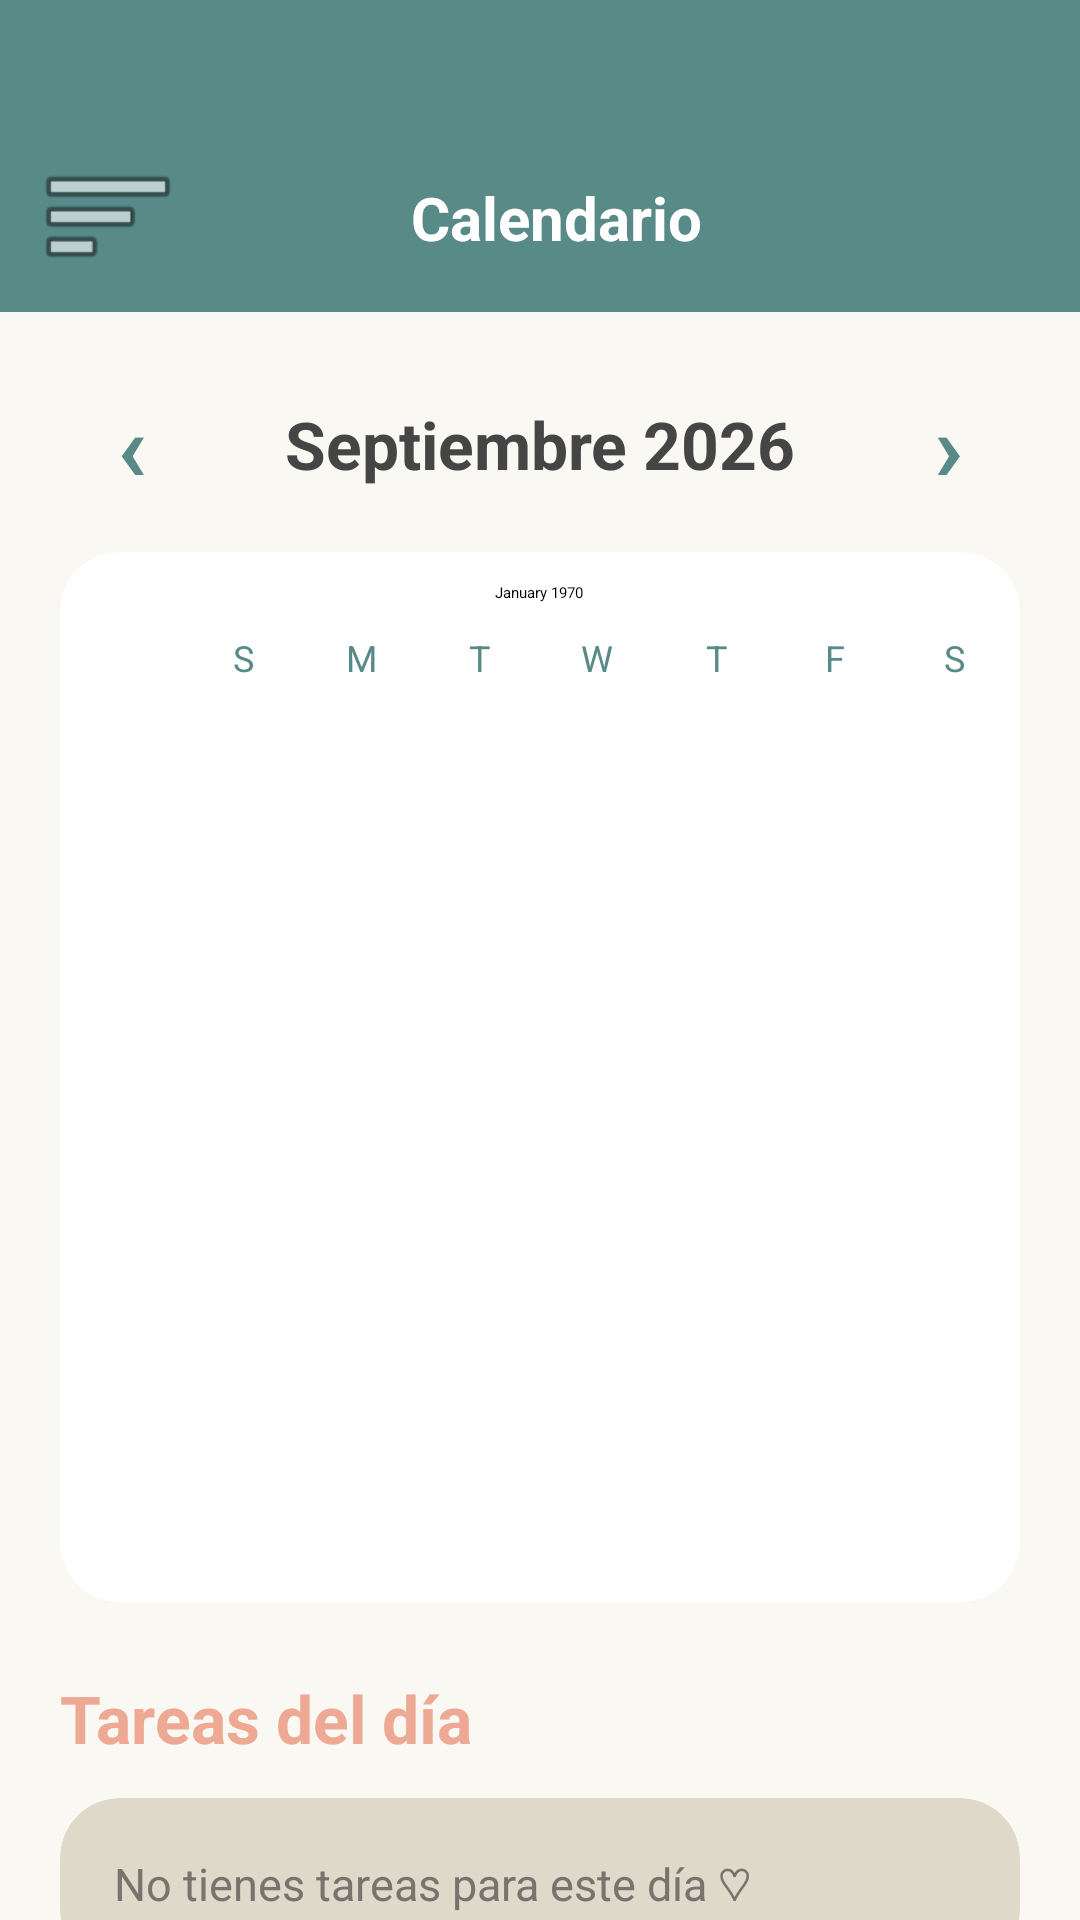

Named icons in this screenshot (1080×1920) and their centers, (x,y):
Abrir menú: (108,217)
